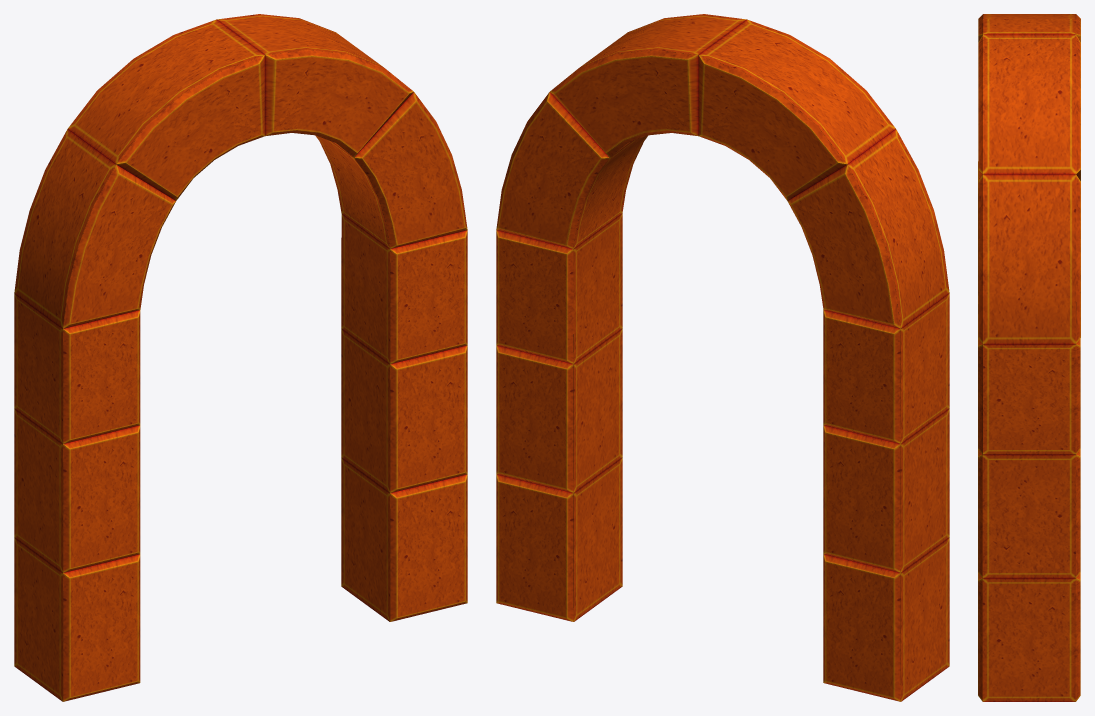
File: Castle_Border_Door.fbx
The picture shows the model from 3 angles, left to right: view 1: azimuth 30°, elevation 25°; view 2: azimuth 150°, elevation 25°; view 3: azimuth 270°, elevation 25°; orthographic projection. The views are drawn at different scales.
Visible parts, largest first — view 1: Border_Door_LOD0; view 2: Border_Door_LOD0; view 3: Border_Door_LOD0.
Part boxes in pixels (x1=…): Border_Door_LOD0: x1=14, y1=14, x2=467, y2=701; Border_Door_LOD0: x1=496, y1=14, x2=949, y2=701; Border_Door_LOD0: x1=978, y1=14, x2=1080, y2=701.
Bounding box in the file's own units: 414 × 583 × 94.97.
